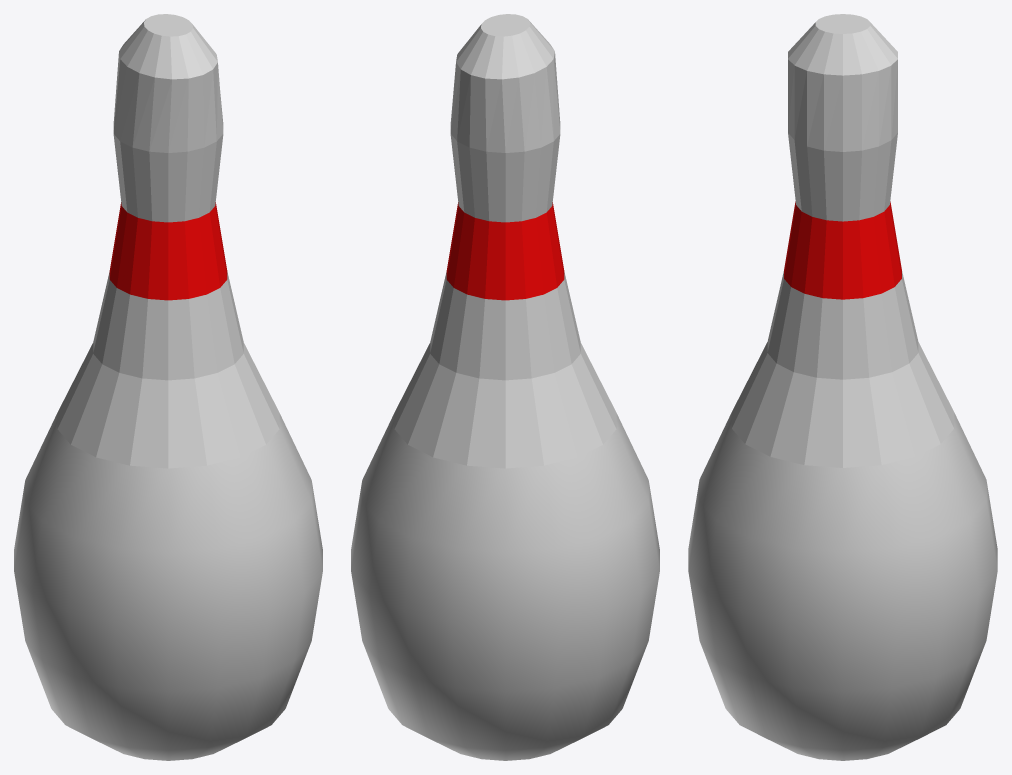
Rendered from labut.FBX.
The picture shows the model from 3 angles, left to right: view 1: azimuth 30°, elevation 25°; view 2: azimuth 150°, elevation 25°; view 3: azimuth 270°, elevation 25°; orthographic projection.
Parts seen in each view (by area): view 1: Cylinder001; view 2: Cylinder001; view 3: Cylinder001.
Boxes of the visible parts, x1=… form: Cylinder001: x1=14, y1=14, x2=322, y2=760; Cylinder001: x1=351, y1=14, x2=659, y2=760; Cylinder001: x1=688, y1=14, x2=997, y2=760.
Bounding box in the file's own units: 38.99 × 38.4 × 96.92.
